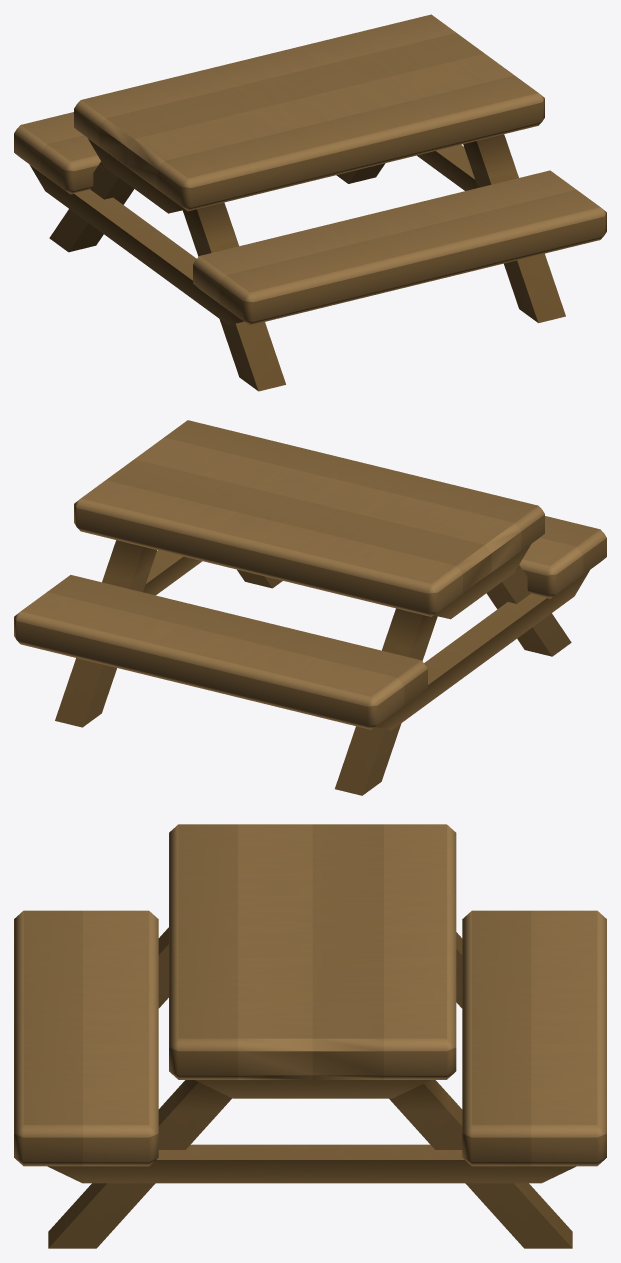
The model's file is table_park.fbx.
3 views of the same model, one above another, from view 1: azimuth 30°, elevation 25°; view 2: azimuth 150°, elevation 25°; view 3: azimuth 270°, elevation 25° (orthographic). The views are drawn at different scales.
Parts seen in each view (by area): view 1: table_park; view 2: table_park; view 3: table_park.
Part boxes in pixels (x1=…): table_park: x1=14, y1=14, x2=606, y2=391; table_park: x1=14, y1=420, x2=606, y2=795; table_park: x1=14, y1=824, x2=606, y2=1248.
Bounding box in the file's own units: 170 × 80.14 × 191.
